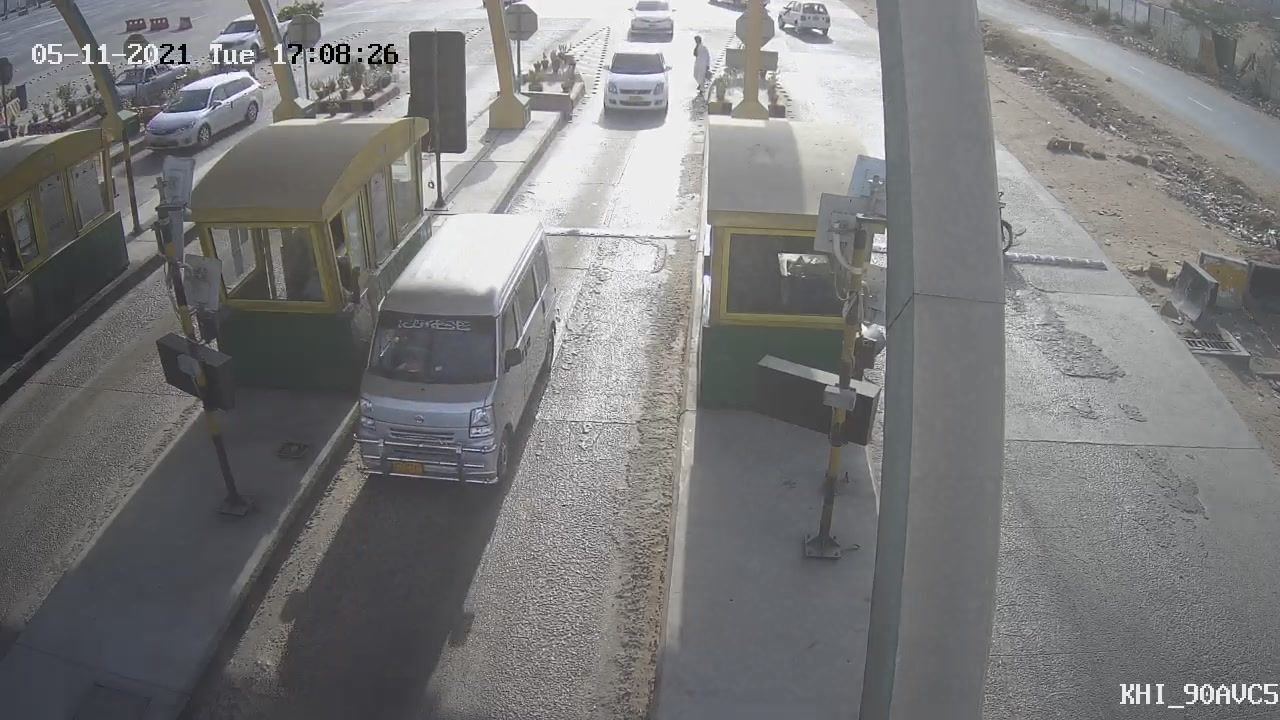F1: (589, 35, 682, 131)
